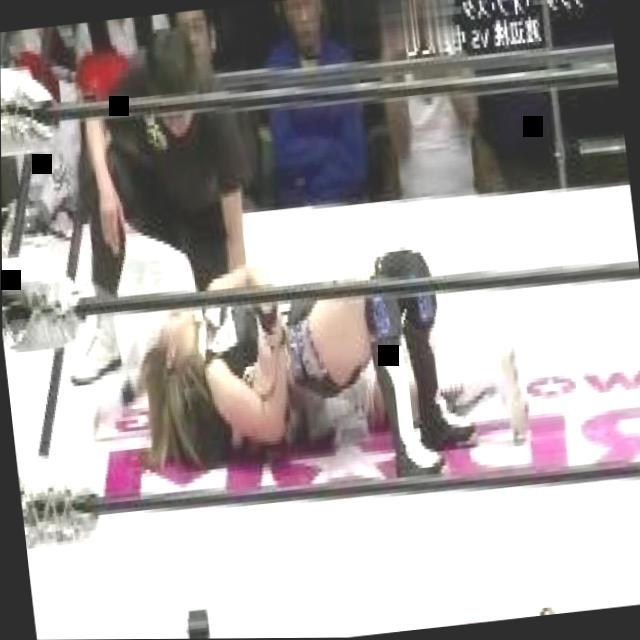Fall-Detected: (113, 200, 525, 495)
